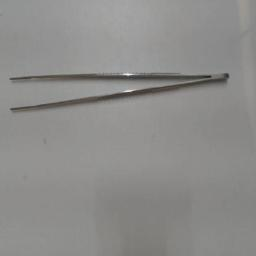DeBakey Dissector: (4, 54, 242, 118)
